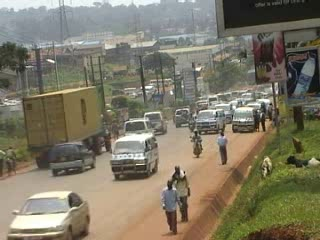Car: (6, 190, 91, 238), (47, 140, 97, 175), (172, 107, 192, 130)
Motorcycle: (188, 127, 204, 158), (186, 110, 197, 132)
